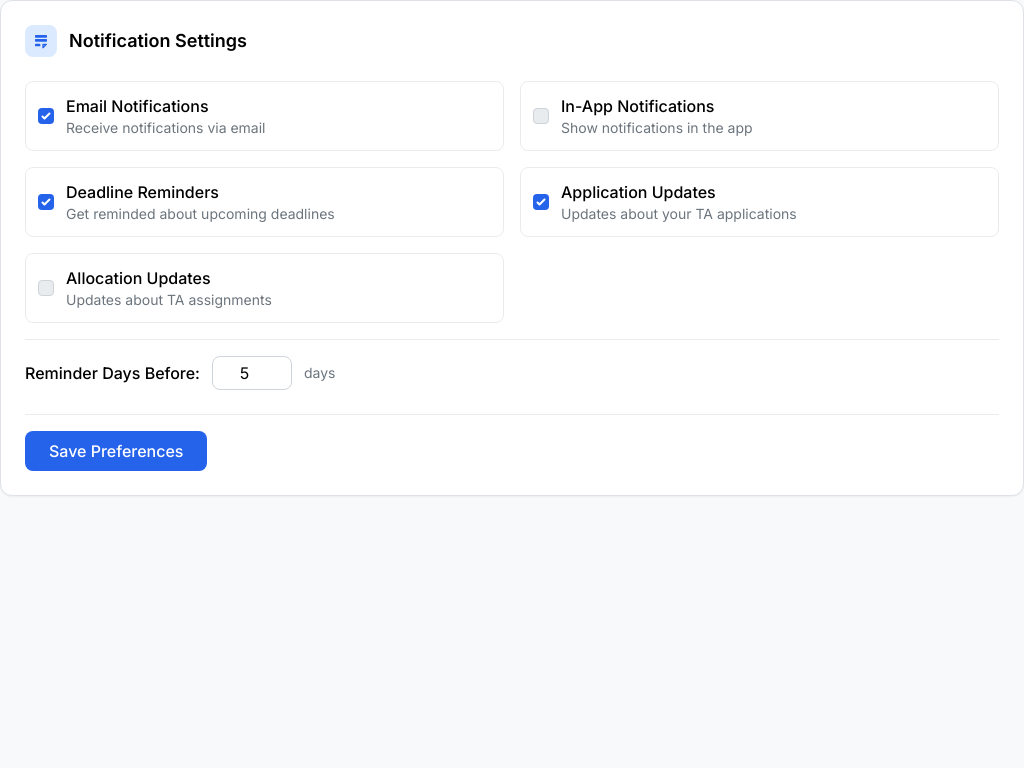
Test: NotificationPreferences › shows error if save fails
The image size is (1024, 768).
Step 1. Click the button "Save Preferences" → click(116, 451), box 25,431 -> 208,471
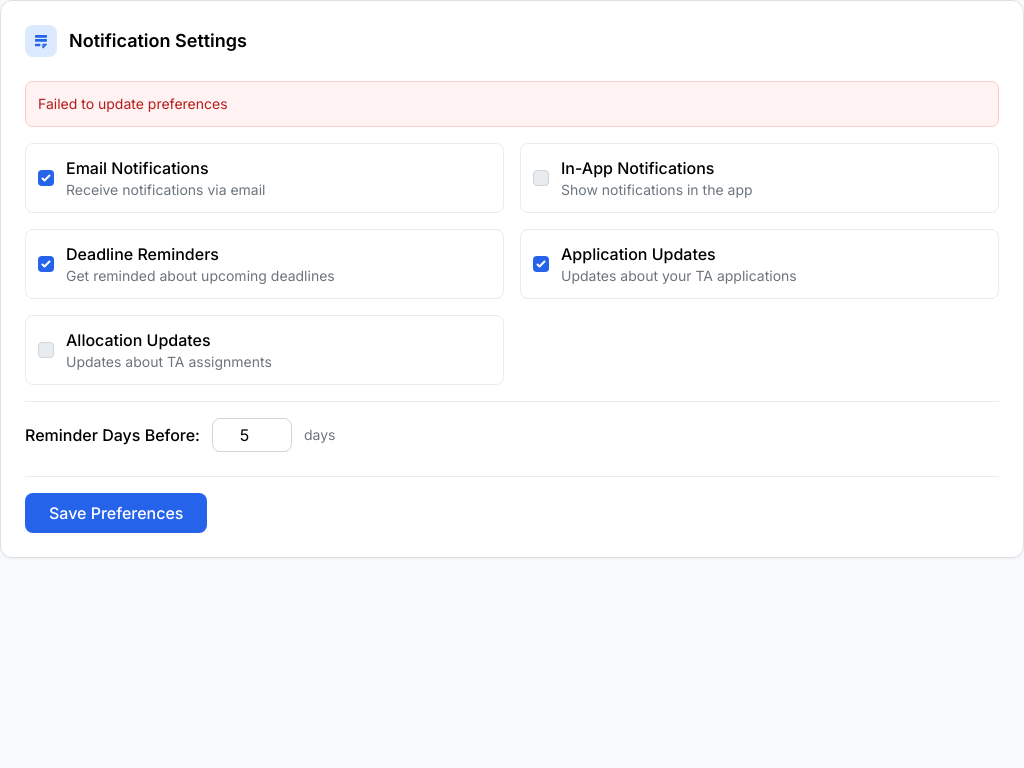
Check: the text "Failed to update preferences" is shown, box 25,81 -> 999,127
